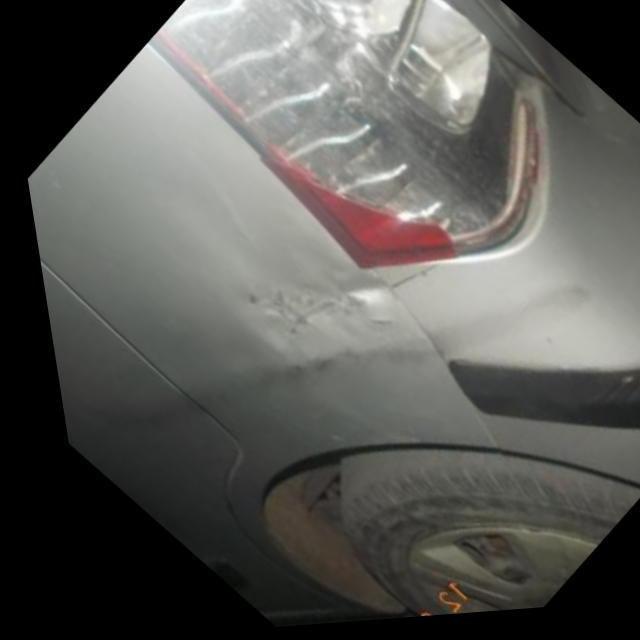lamp broken: (142, 0, 539, 274)
rub: (219, 265, 434, 395)
